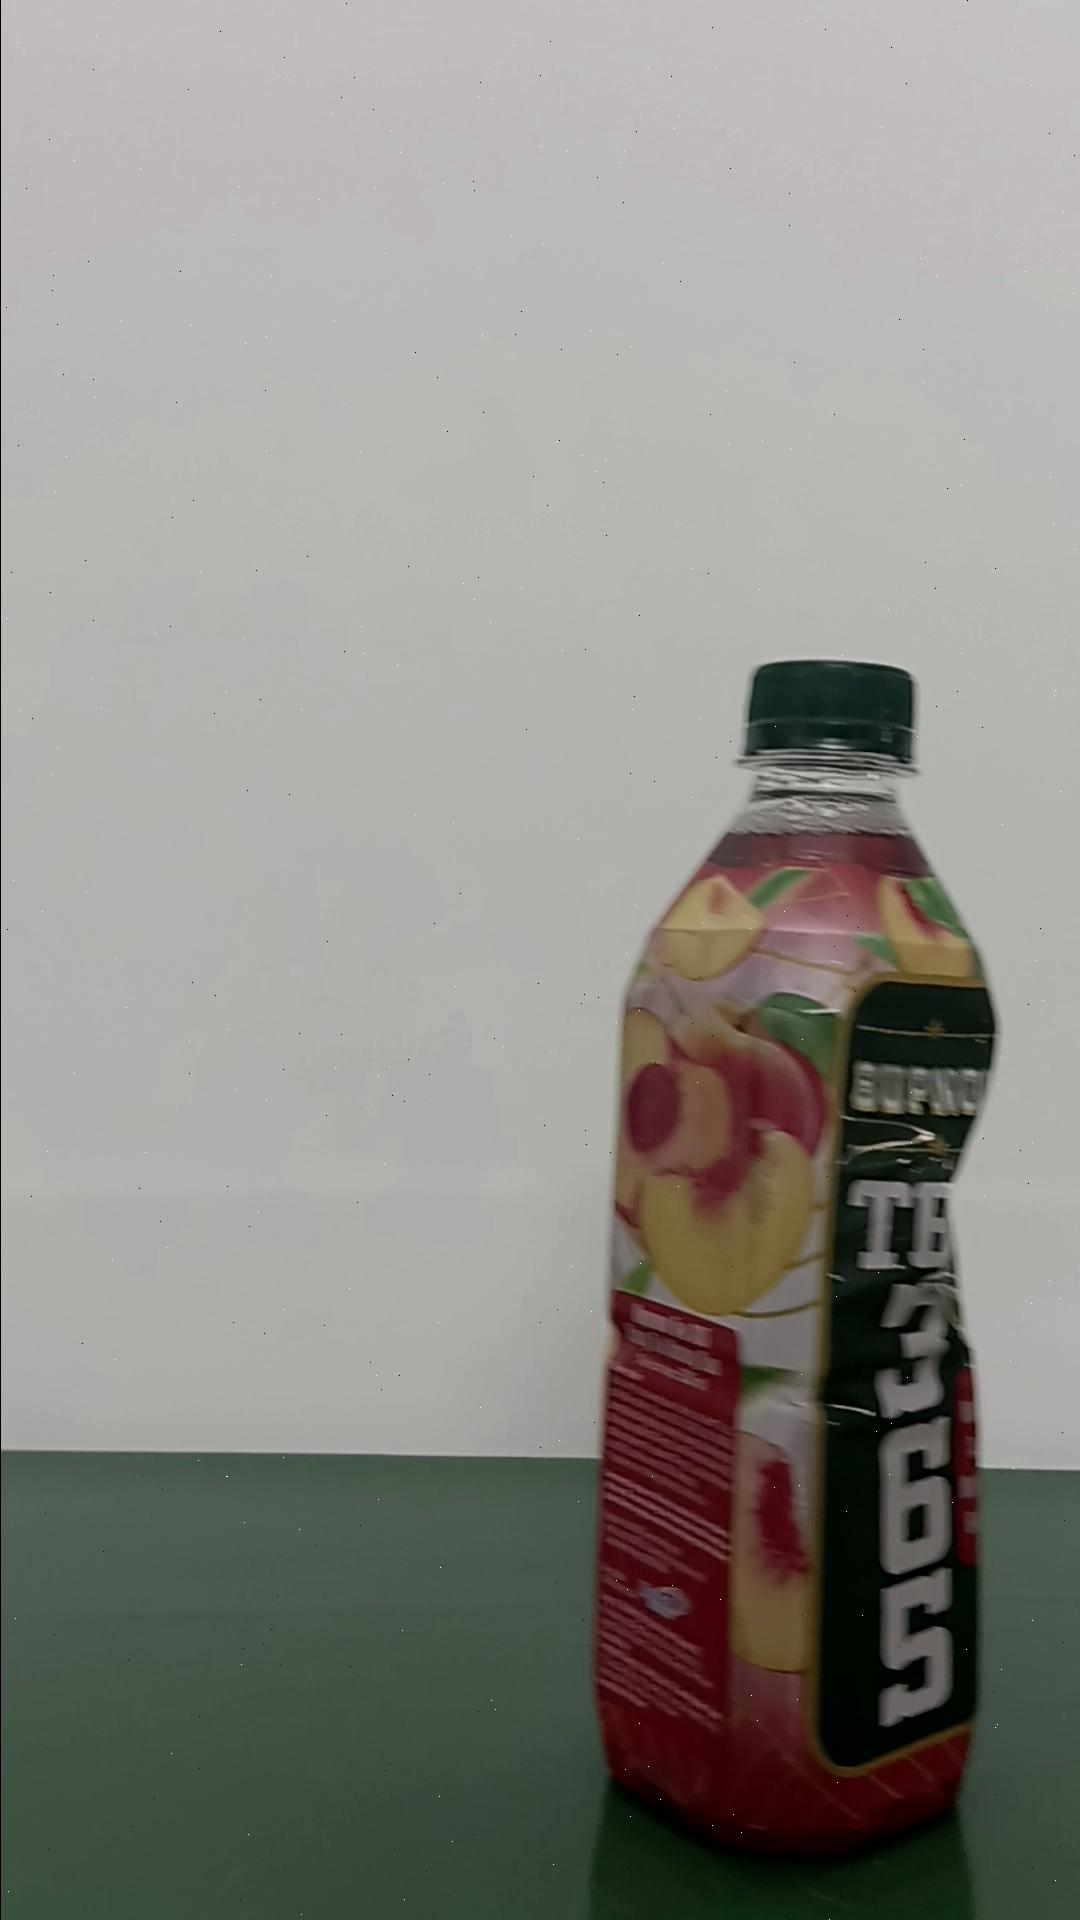loi meo sp: (588, 655, 1000, 1858)
